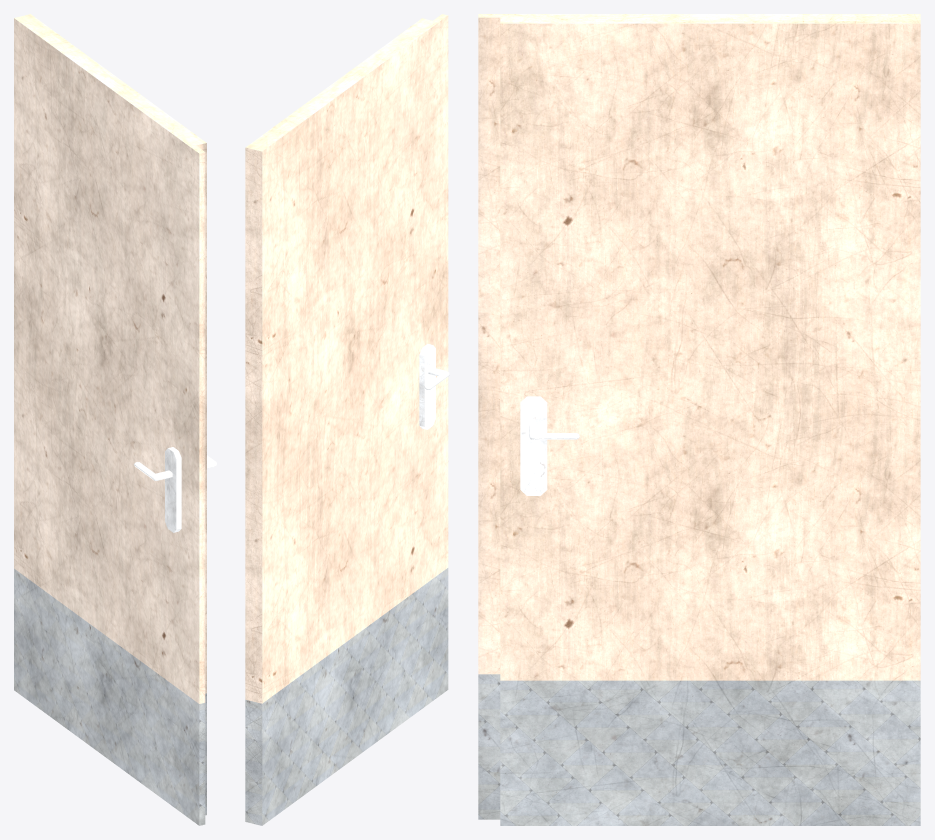
Rendered from SM_Door.fbx.
3 renders of one model, left to right at view 1: azimuth 30°, elevation 25°; view 2: azimuth 150°, elevation 25°; view 3: azimuth 270°, elevation 25°, orthographic. The views are drawn at different scales.
Visible parts, largest first — view 1: SM_Door_LOD0; view 2: SM_Door_LOD0; view 3: SM_Door_LOD0.
Boxes of the visible parts, bbox=[...] form: SM_Door_LOD0: bbox=[14, 14, 216, 825]; SM_Door_LOD0: bbox=[245, 14, 449, 825]; SM_Door_LOD0: bbox=[478, 14, 920, 825].
Bounding box in the file's own units: 23.92 × 120 × 240.
3 materials, 2 textured.
